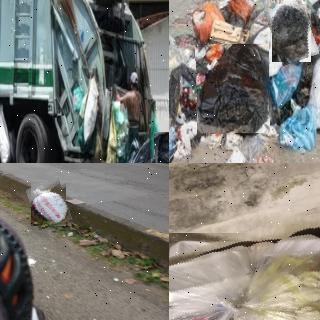Garbage: (169, 209, 320, 320), (196, 44, 270, 134), (268, 2, 315, 64), (275, 102, 318, 151), (28, 181, 69, 228), (308, 46, 320, 126)
